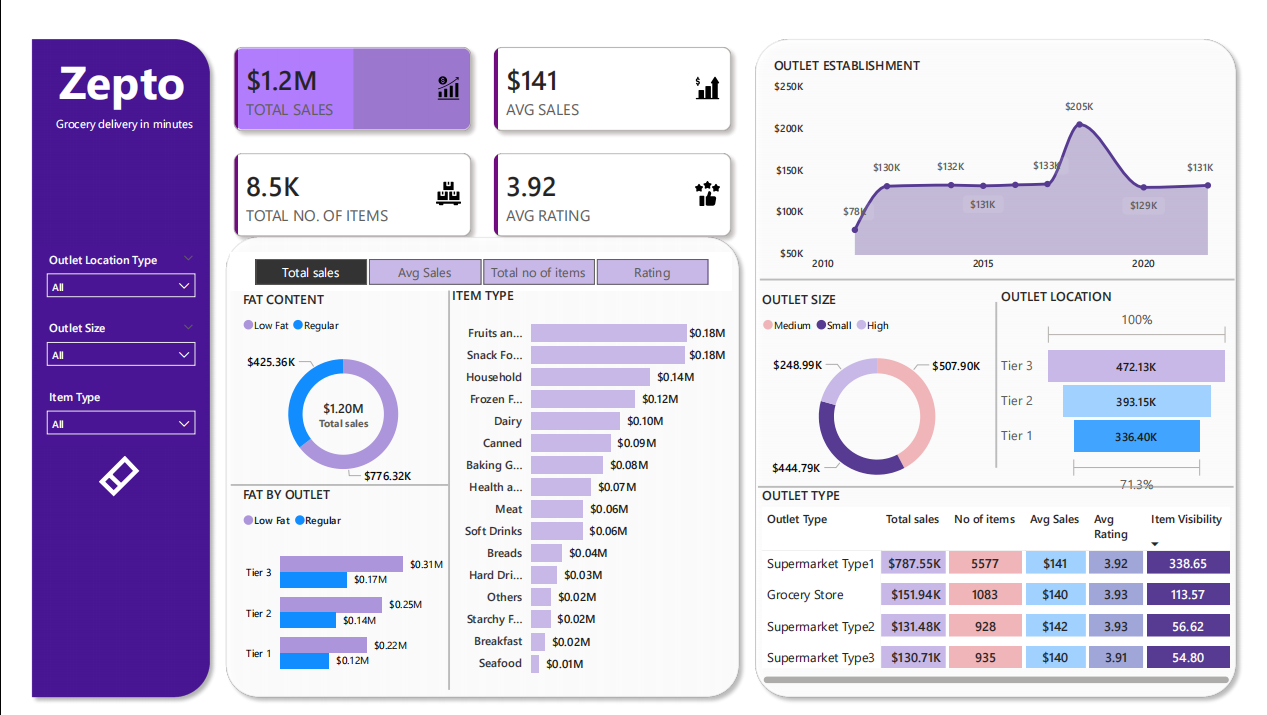

What the dashboard file says about the page in this screenshot:
{"tool":"powerbi","page":{"name":"Page 1","canvas":[1280,720],"ordinal":0},"visuals":[{"type":"shape","box":[0,13,204.5,707],"z":0},{"type":"textbox","box":[31.7,27.4,205.9,80.6],"z":1000},{"type":"textbox","box":[28.8,96.5,208.8,43.2],"z":2000},{"type":"cardVisual","fields":{"Data":["BlinkIT Grocery Data.Total sales","BlinkIT Grocery Data.Avg Sales","BlinkIT Grocery Data.Total no of items","BlinkIT Grocery Data.Avg Rating"]},"box":[204.5,13,554.4,231.8],"z":3000},{"type":"shape","box":[204.5,220.3,554.4,499.7],"z":4000},{"type":"donutChart","title":"FAT CONTENT","fields":{"Y":["BlinkIT Grocery Data.Total sales"],"Category":["BlinkIT Grocery Data.Item Fat Content"]},"box":[224.6,285.1,220.3,215],"z":5000},{"type":"slicer","fields":{"Values":["Metrics.Metrics"]},"box":[217.4,244.8,524.2,40.3],"z":6000},{"type":"cardVisual","fields":{"Data":["BlinkIT Grocery Data.Total sales"]},"box":[263.5,351.4,144,96.5],"z":7000},{"type":"clusteredBarChart","title":"FAT BY OUTLET","fields":{"Y":["BlinkIT Grocery Data.Total sales"],"Category":["BlinkIT Grocery Data.Outlet Location Type"],"Series":["BlinkIT Grocery Data.Item Fat Content"]},"box":[224.6,489.6,220,215],"z":8000},{"type":"shape","box":[217.4,430.6,227.5,116.6],"z":9000},{"type":"shape","box":[355.7,285.1,180,419],"z":10000},{"type":"barChart","title":"ITEM TYPE","fields":{"Y":["BlinkIT Grocery Data.Total sales"],"Category":["BlinkIT Grocery Data.Item Type"]},"box":[445,280.8,296.6,419],"z":11000},{"type":"shape","box":[758.9,13,521.3,707],"z":12000},{"type":"lineChart","title":"OUTLET ESTABLISHMENT","fields":{"Category":["BlinkIT Grocery Data.Outlet Establishment Year"],"Y":["BlinkIT Grocery Data.Total sales"]},"box":[781.9,40.3,476.6,234.7],"z":13000},{"type":"shape","box":[771.8,236.2,498.2,74.9],"z":14000},{"type":"donutChart","title":"OUTLET SIZE","fields":{"Y":["BlinkIT Grocery Data.Total sales"],"Category":["BlinkIT Grocery Data.Outlet Size"]},"box":[770.4,285.1,249.1,220.3],"z":15000},{"type":"shape","box":[930.2,296.6,180,174.2],"z":16000},{"type":"funnel","title":"OUTLET LOCATION","fields":{"Y":["Sum(BlinkIT Grocery Data.Sales)"],"Category":["BlinkIT Grocery Data.Outlet Location Type"]},"box":[1021,282.2,249.1,220.3],"z":17000},{"type":"shape","box":[770.4,453.6,498.2,74.9],"z":18000},{"type":"pivotTable","title":"OUTLET TYPE","fields":{"Values":["BlinkIT Grocery Data.Total sales","BlinkIT Grocery Data.Total no of items","BlinkIT Grocery Data.Avg Sales","BlinkIT Grocery Data.Avg Rating","Sum(BlinkIT Grocery Data.Item Visibility)"],"Rows":["BlinkIT Grocery Data.Outlet Type"]},"box":[770.4,491,499.7,211.7],"z":19000},{"type":"slicer","fields":{"Values":["BlinkIT Grocery Data.Outlet Size"]},"box":[14.4,311,175.7,72],"z":20000},{"type":"slicer","fields":{"Values":["BlinkIT Grocery Data.Outlet Location Type"]},"box":[14.4,239,175.7,72],"z":21000},{"type":"slicer","fields":{"Values":["BlinkIT Grocery Data.Item Type"]},"box":[14.4,383,175.7,64.8],"z":22000},{"type":"actionButton","box":[0,455,200.2,50.4],"z":23000}]}

Visuals, with their boxes in screenshot pixels (x1, y1, x2, y2), scaled from the page's 1280x720 canvas onto the 1267x715 screenshot:
shape: l=0, t=13, r=202, b=714
textbox: l=31, t=27, r=235, b=107
textbox: l=29, t=96, r=235, b=139
cardVisual - BlinkIT Grocery Data.Total sales x BlinkIT Grocery Data.Avg Sales: l=202, t=13, r=751, b=243
shape: l=202, t=219, r=751, b=714
"FAT CONTENT" donutChart: l=222, t=283, r=440, b=497
slicer - Metrics.Metrics: l=215, t=243, r=734, b=283
cardVisual - BlinkIT Grocery Data.Total sales: l=261, t=349, r=403, b=445
"FAT BY OUTLET" clusteredBarChart: l=222, t=486, r=440, b=700
shape: l=215, t=428, r=440, b=543
shape: l=352, t=283, r=530, b=699
"ITEM TYPE" barChart: l=440, t=279, r=734, b=695
shape: l=751, t=13, r=1266, b=714
"OUTLET ESTABLISHMENT" lineChart: l=774, t=40, r=1246, b=273
shape: l=764, t=235, r=1257, b=309
"OUTLET SIZE" donutChart: l=763, t=283, r=1009, b=502
shape: l=921, t=295, r=1099, b=468
"OUTLET LOCATION" funnel: l=1011, t=280, r=1257, b=499
shape: l=763, t=450, r=1256, b=525
"OUTLET TYPE" pivotTable: l=763, t=488, r=1257, b=698
slicer - BlinkIT Grocery Data.Outlet Size: l=14, t=309, r=188, b=380
slicer - BlinkIT Grocery Data.Outlet Location Type: l=14, t=237, r=188, b=309
slicer - BlinkIT Grocery Data.Item Type: l=14, t=380, r=188, b=445
actionButton: l=0, t=452, r=198, b=502
